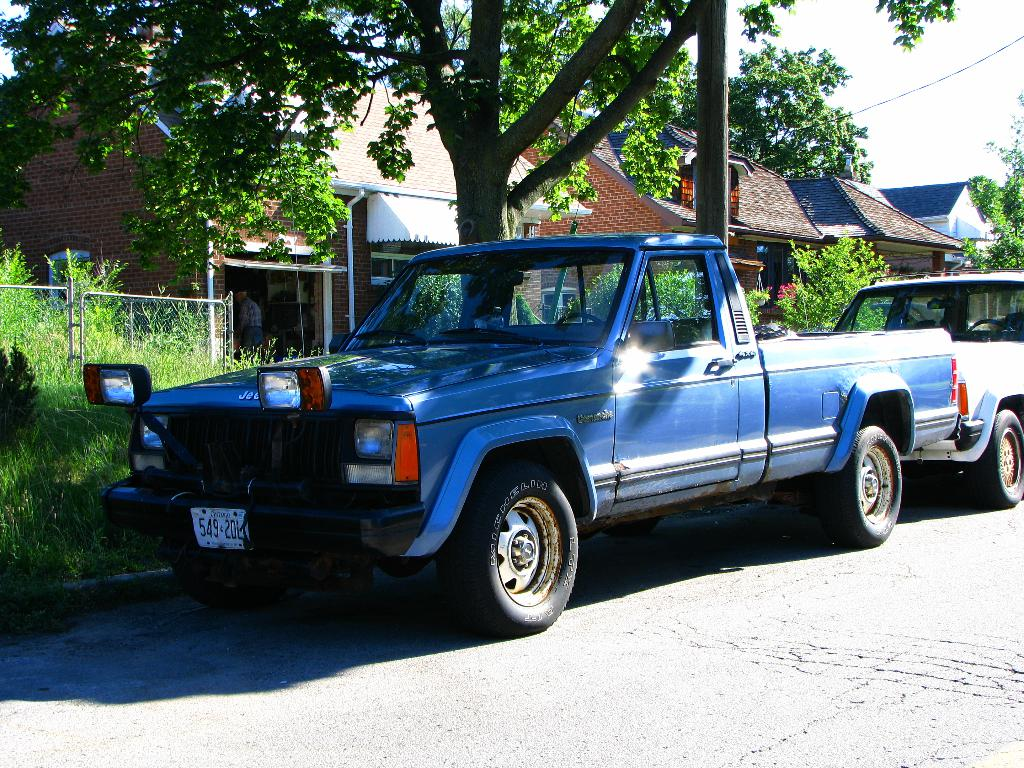mobil: (107, 234, 966, 647)
